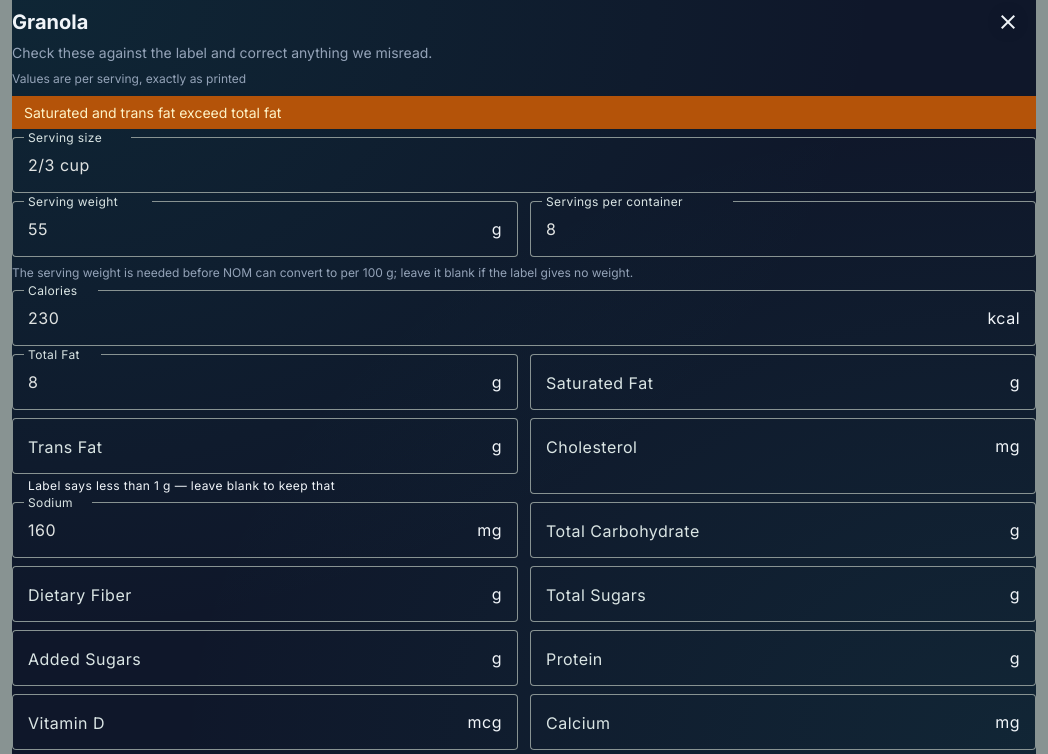
Test: LabelConfirmSheet › says why Save did nothing and shows the field instead of greying the button out
Replace the text in the number field with test id "label-confirm-serving-grams-input" with "0" at (260, 229), box 28,217 -> 492,241
(page scrolled)
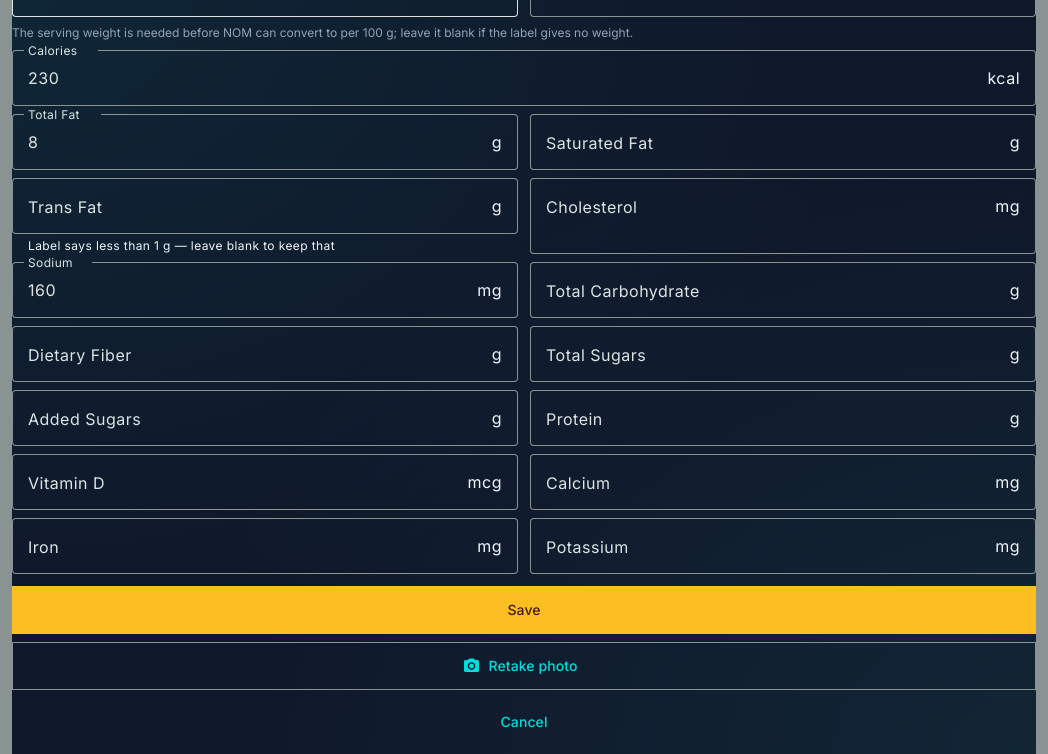
Click the button with test id "label-confirm-save-btn".
click(524, 610)  # box 12,586 -> 1036,634
(page scrolled)
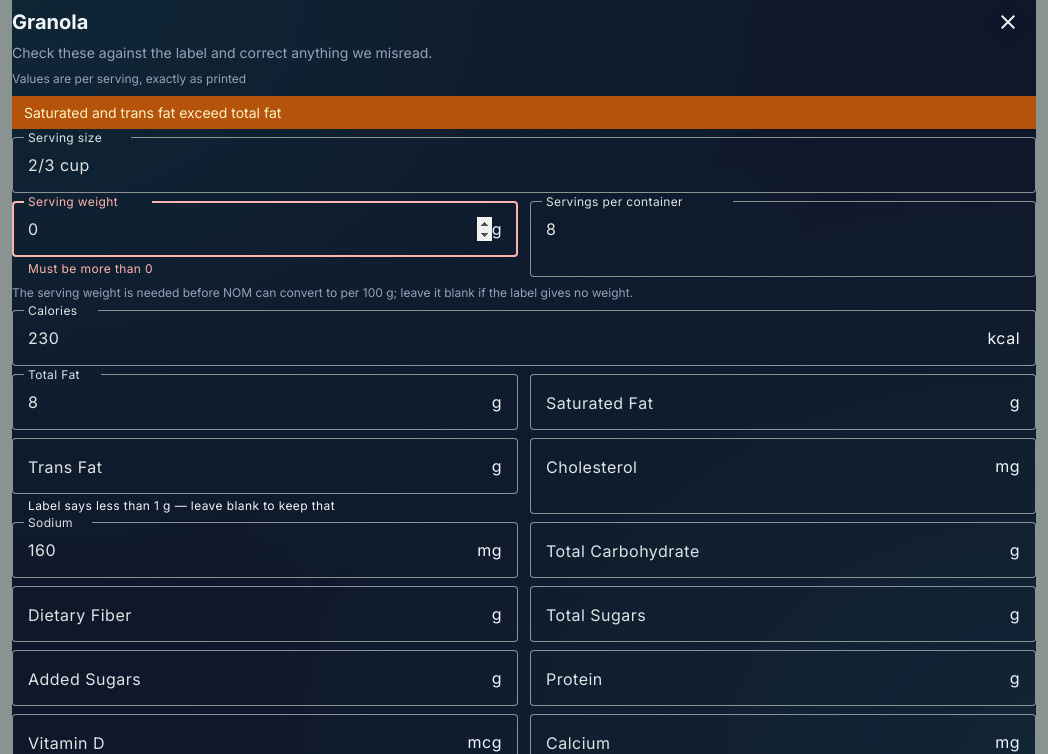
Now the text with test id "label-confirm-serving-grams-error" reads "Must be more than 0", box 28,261 -> 153,276
